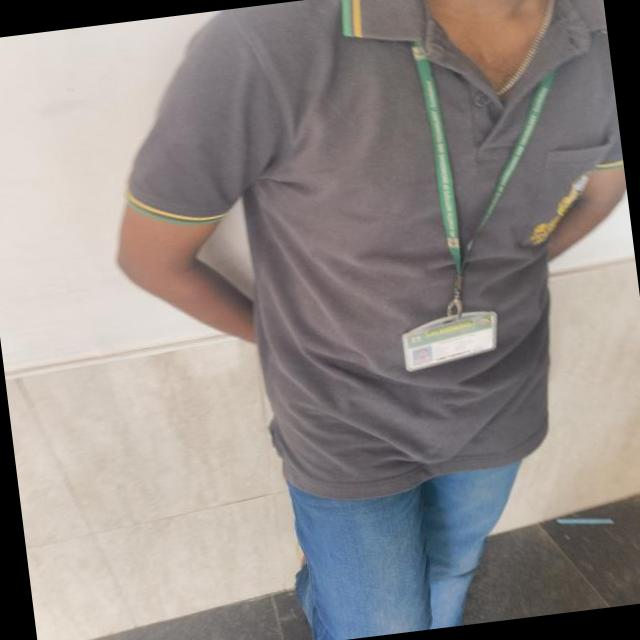id_card: (368, 25, 578, 372)
